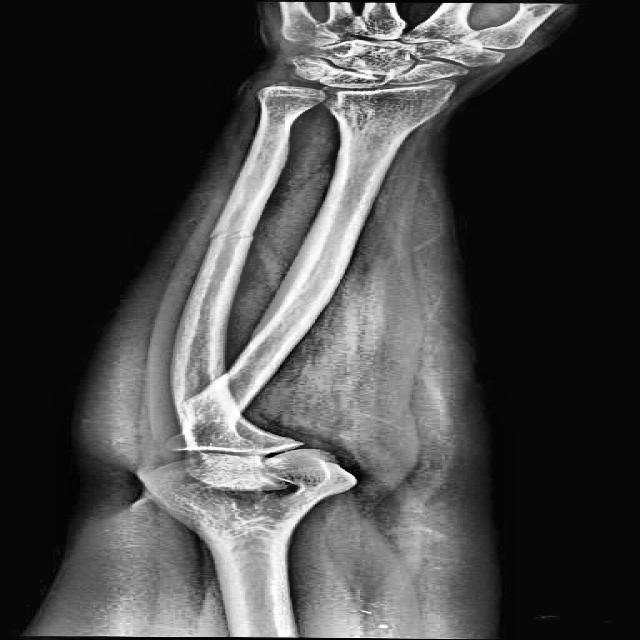fracture: (207, 230, 255, 240)
